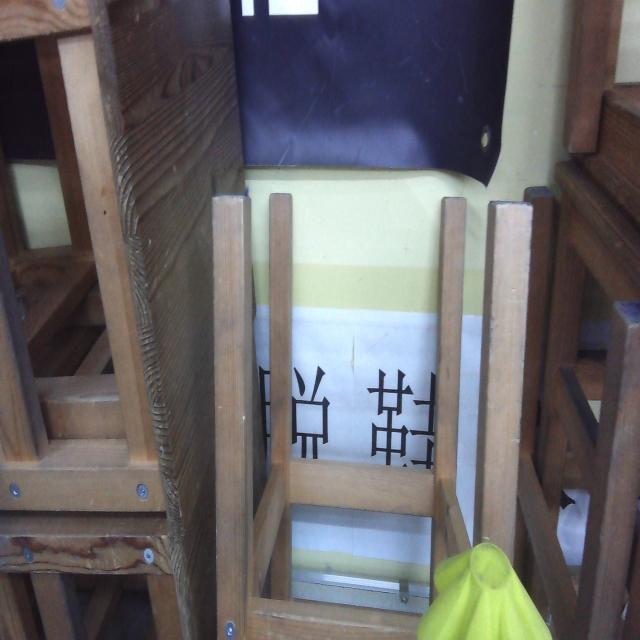Yellow-Stake-Head: (417, 542, 552, 640)
